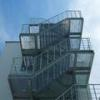stairs: (30, 53, 68, 90), (38, 16, 69, 44)
